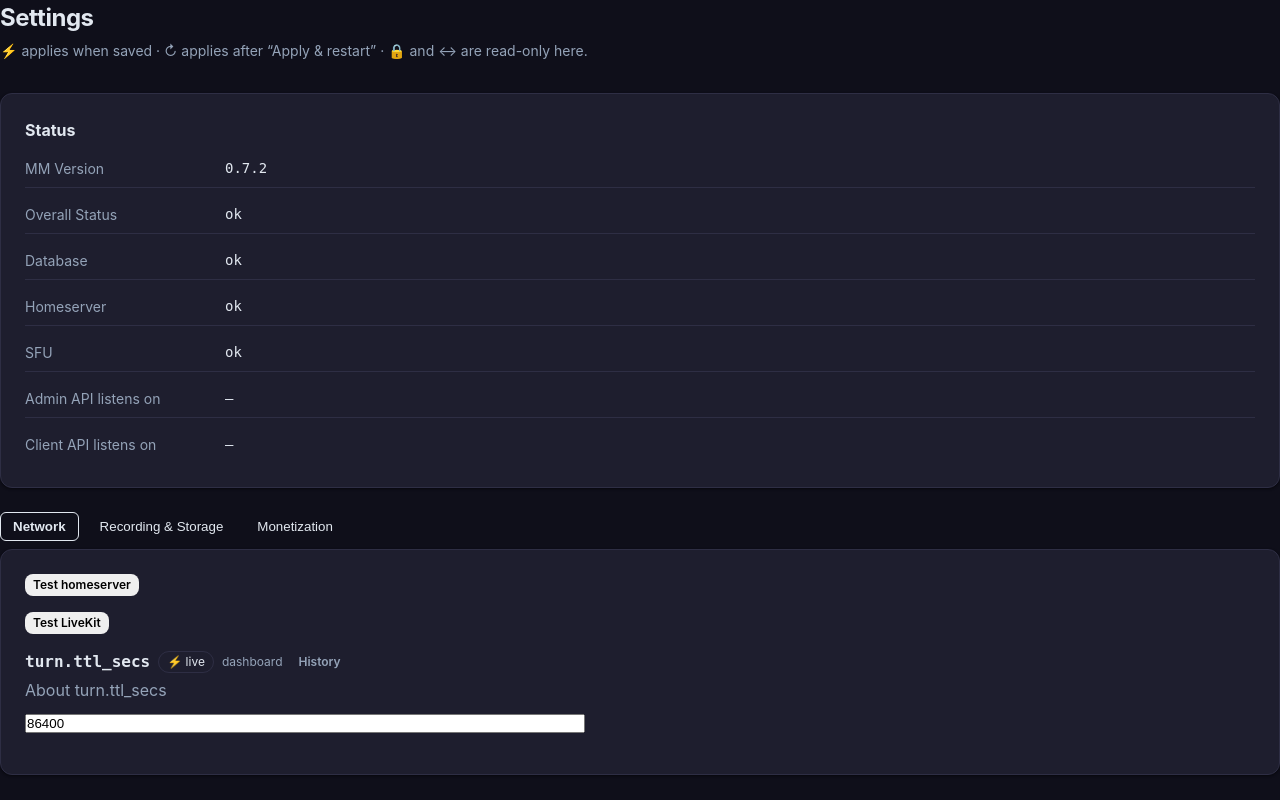
Scenario: SettingsPage › does not claim a change applied live when the live reload was rejected
Expected: the tab "Network" is shown, [0, 512, 79, 541]
Replace the text in the number field labelled "turn.ttl_secs" with "3600". click: [305, 724]
box: [25, 714, 585, 733]
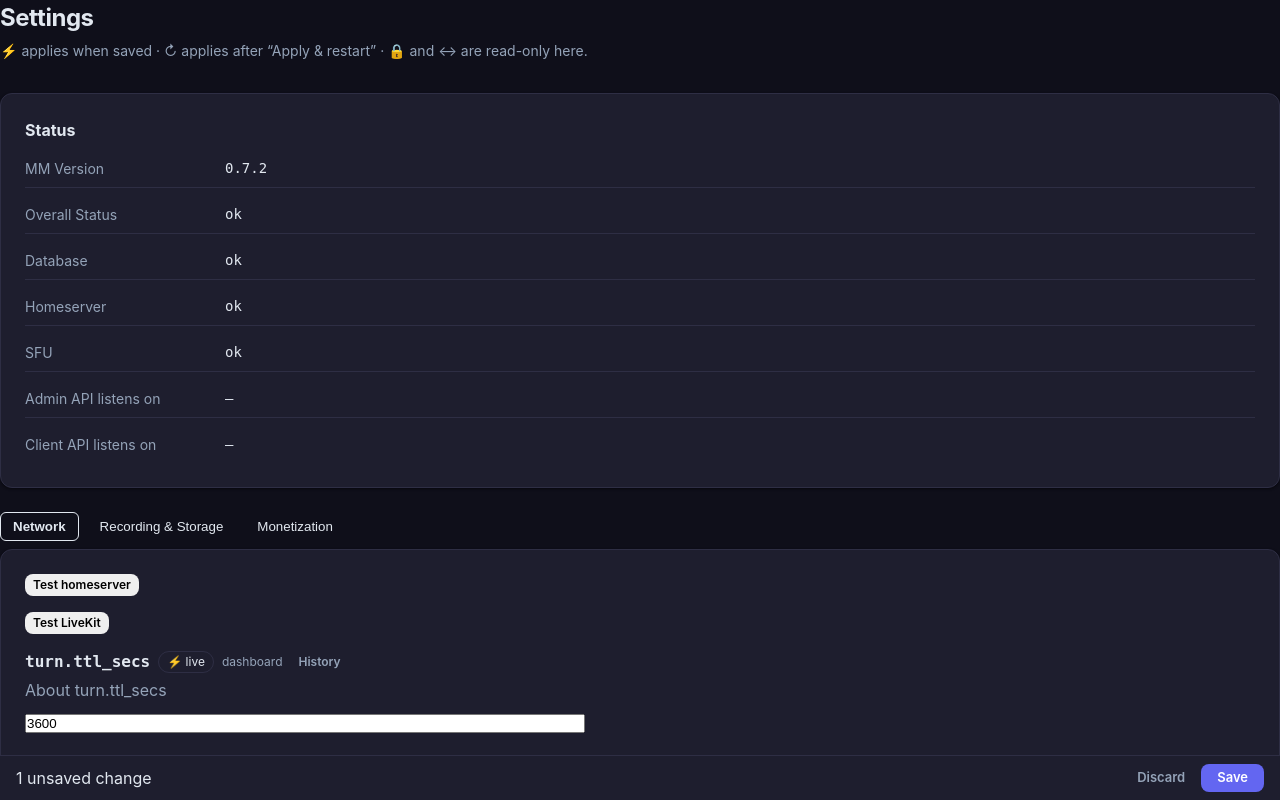
Click the button "Save". click: [1233, 778]
box: [1201, 764, 1264, 792]
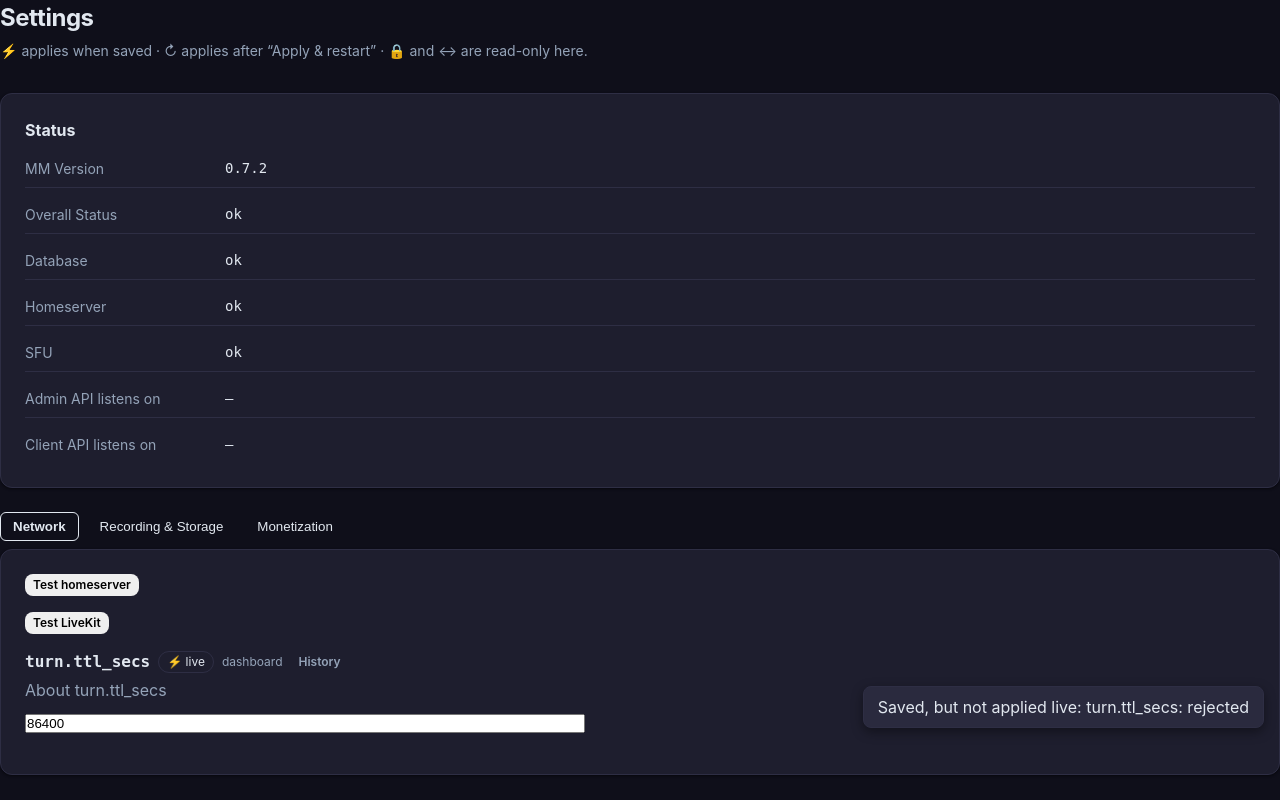
Expected: the text "Saved, but not applied live: turn.ttl_secs: rejected" is shown, [863, 686, 1264, 728]
